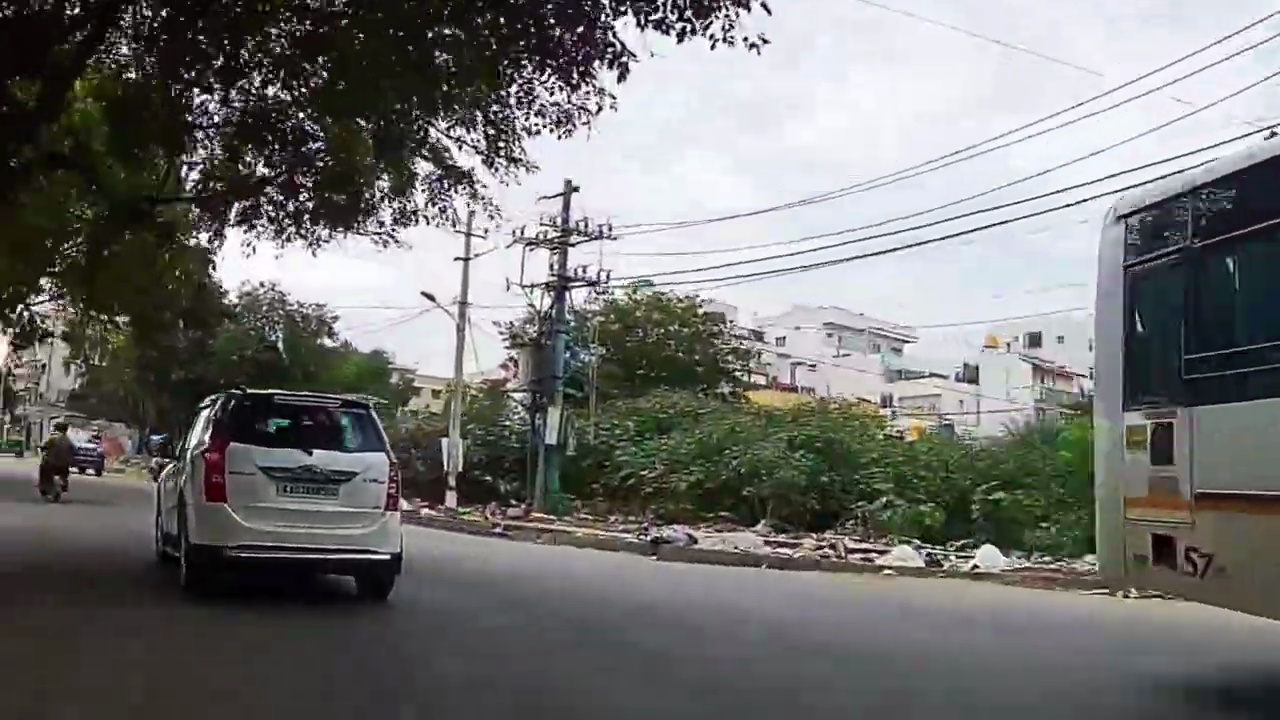garbage: (655, 516, 992, 563)
